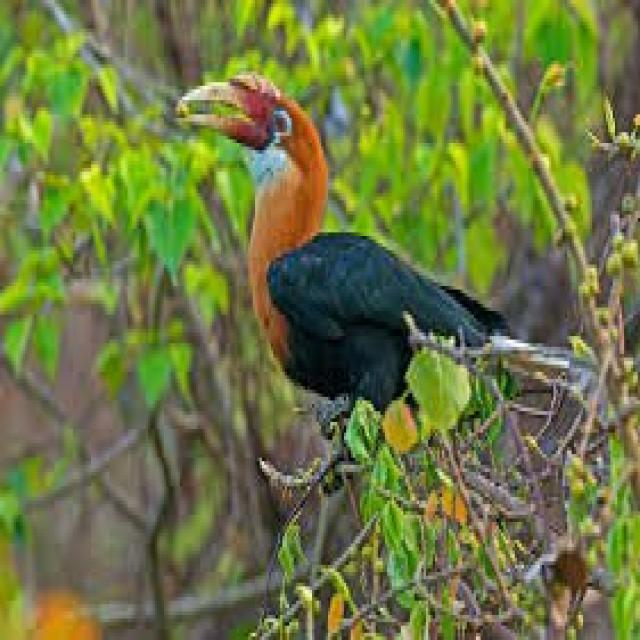Hornbill: (175, 67, 573, 470)
